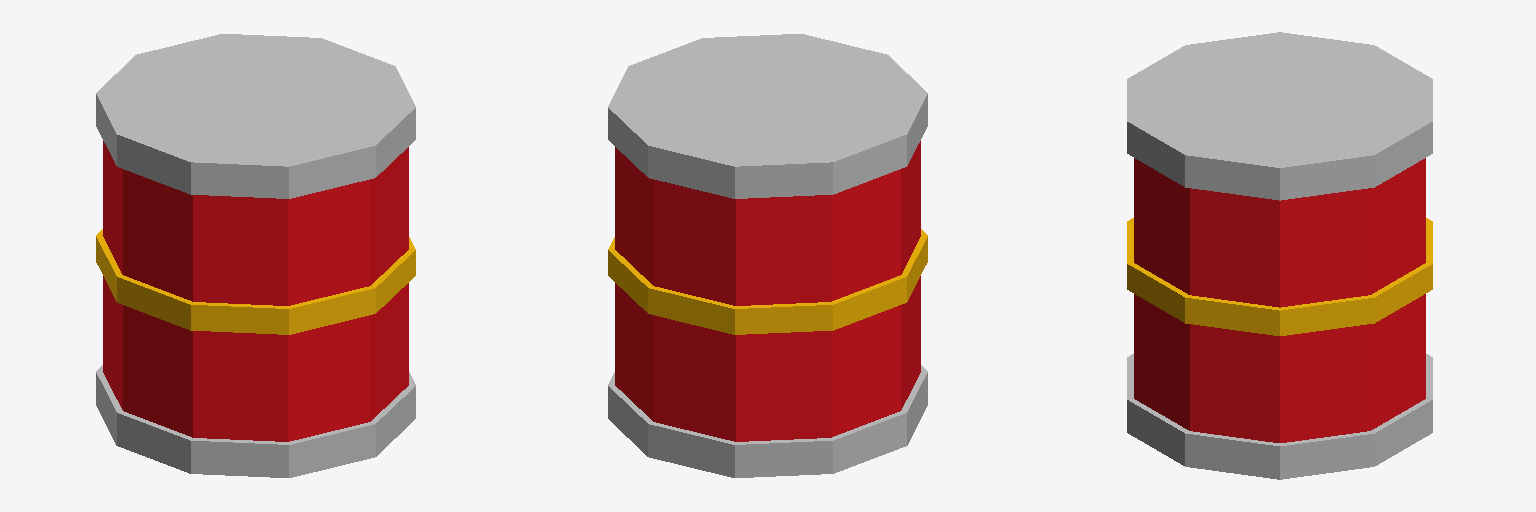
3 views of the same model, side by side, from view 1: azimuth 30°, elevation 25°; view 2: azimuth 150°, elevation 25°; view 3: azimuth 270°, elevation 25° (orthographic).
Visible parts, largest first — view 1: cylinder8; view 2: cylinder8; view 3: cylinder8.
Part boxes in pixels (bbox=[...]): cylinder8: bbox=[96, 34, 415, 477]; cylinder8: bbox=[608, 34, 927, 477]; cylinder8: bbox=[1127, 32, 1432, 479].
Bounding box in the file's own units: 45.08 × 48.15 × 42.87.
Materials: 3 (2 with a texture image).